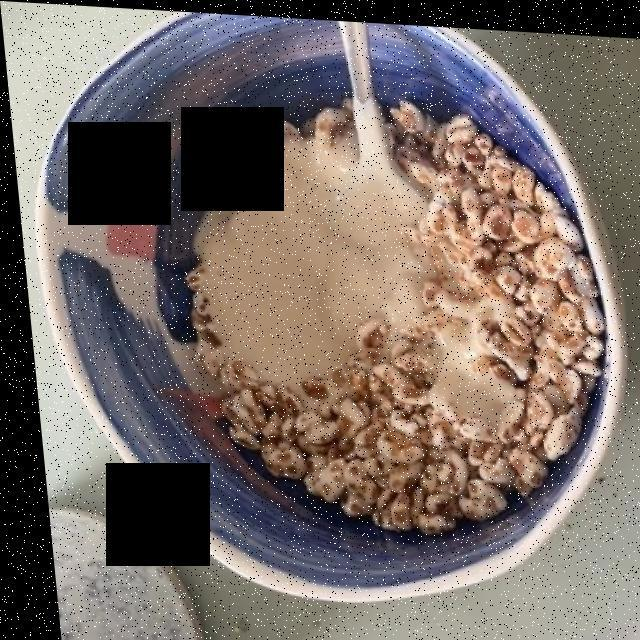yogurt: (198, 110, 507, 429)
